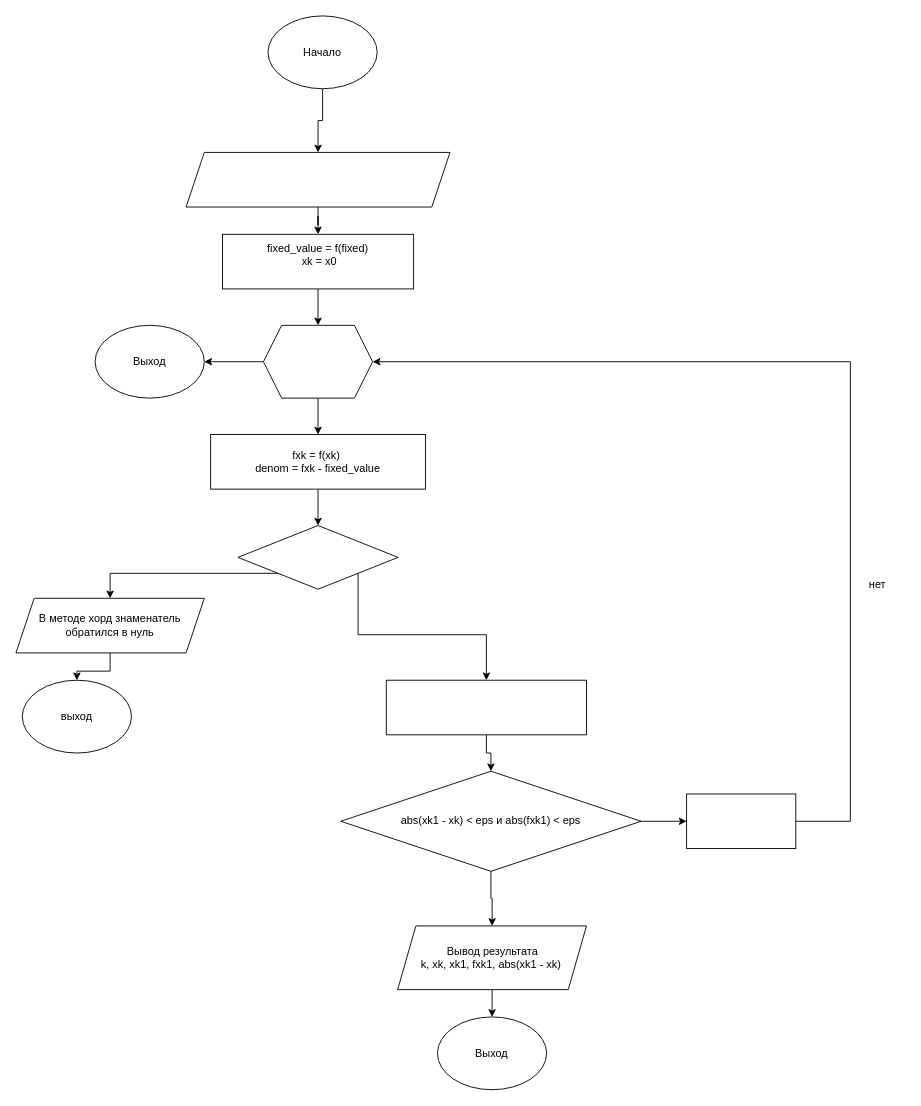
Some shapes in this 921 by 1106 pixel diagram are drawn without their labels. The shapes that lost their labels are listed below. From the top down, each one's centre as x and y in pixels, then its label:
At (x=317, y=179): "f, fixed (точка c), x0, eps, max_iter".
At (x=318, y=361): "k= 1, max_iter".
At (x=317, y=557): "abs(denom) < 1e-14".
At (x=485, y=707): "xk1 = xk - fxk * (xk - fixed) / denom fxk1 = f(xk1)".
At (x=741, y=821): "xk=xk1".
